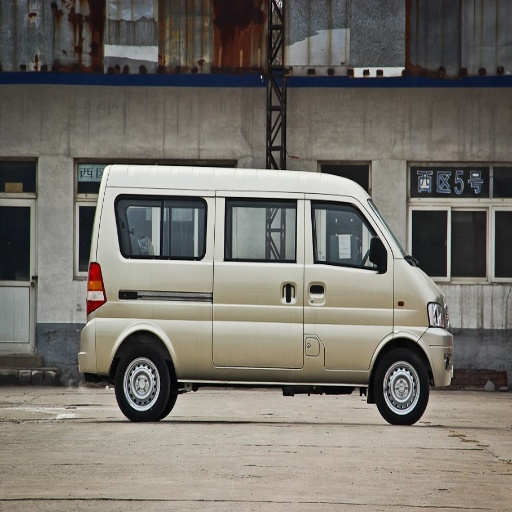back_right_door: (230, 196, 306, 364), (124, 195, 197, 239)
trunk: (81, 270, 255, 377)
